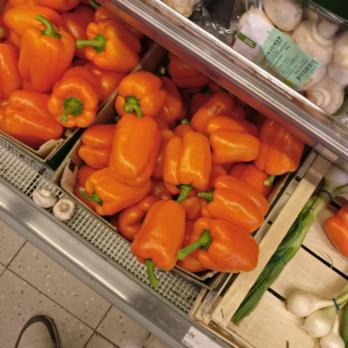Capsicum: (110, 72, 268, 273), (1, 1, 129, 146)
